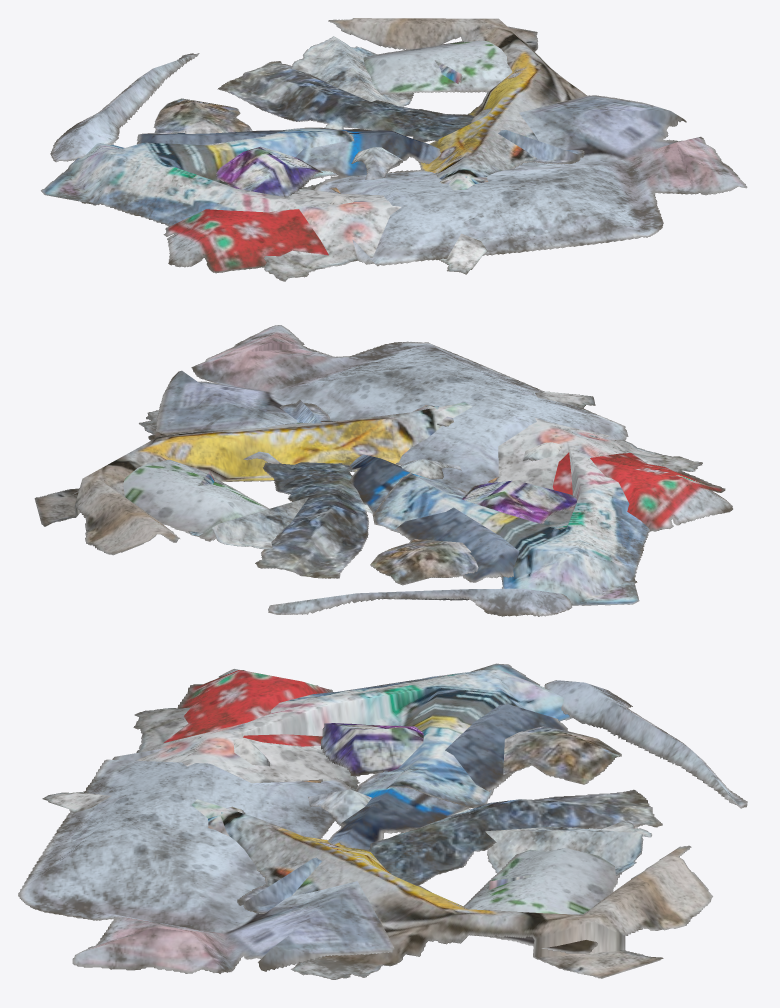
The model's file is Floor Trash.fbx.
3 views of the same model, one above another, from view 1: azimuth 30°, elevation 25°; view 2: azimuth 150°, elevation 25°; view 3: azimuth 270°, elevation 25° (orthographic). The views are drawn at different scales.
Visible parts, largest first — view 1: Floor Trash.009, Floor Trash.005, Floor Trash.003; view 2: Floor Trash.009, Floor Trash.005, Floor Trash.003; view 3: Floor Trash.009, Floor Trash.005, Floor Trash.003.
Part boxes in pixels (bbox=[...]): Floor Trash.009: bbox=[50, 40, 747, 273]; Floor Trash.005: bbox=[41, 18, 586, 281]; Floor Trash.003: bbox=[153, 60, 584, 205]; Floor Trash.009: bbox=[71, 325, 732, 616]; Floor Trash.005: bbox=[34, 391, 702, 605]; Floor Trash.003: bbox=[197, 399, 576, 585]; Floor Trash.009: bbox=[18, 669, 747, 973]; Floor Trash.005: bbox=[42, 663, 712, 979]; Floor Trash.003: bbox=[208, 723, 662, 913].
Bounding box in the file's own units: 44.71 × 48.33 × 2.42.
